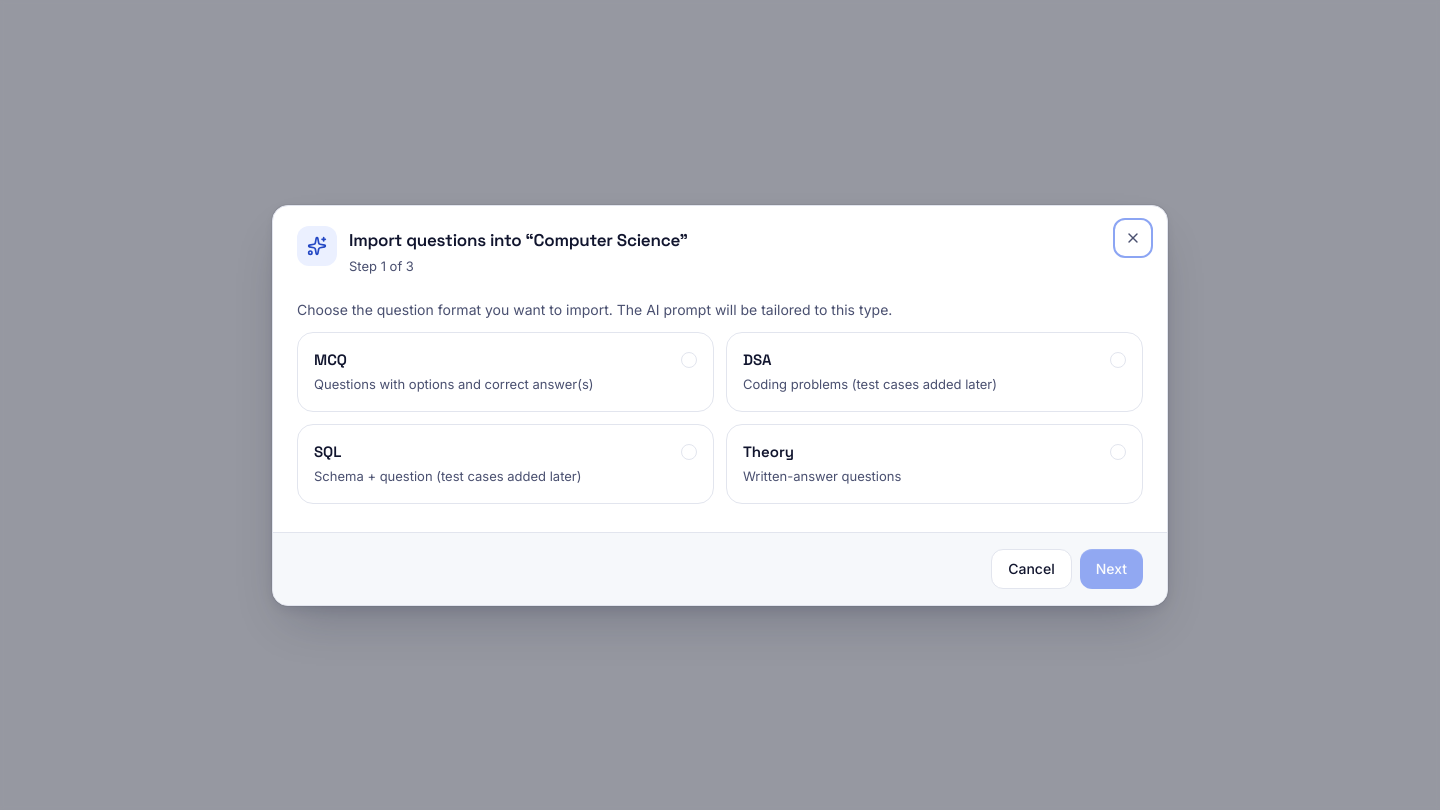
Test: QuestionImportDialog › 6. Payload over the limit disables Preview and shows size warning
This screenshot has width=1440, height=810.
Click the text "MCQ" at x=330, y=360, box [314,348,347,371]
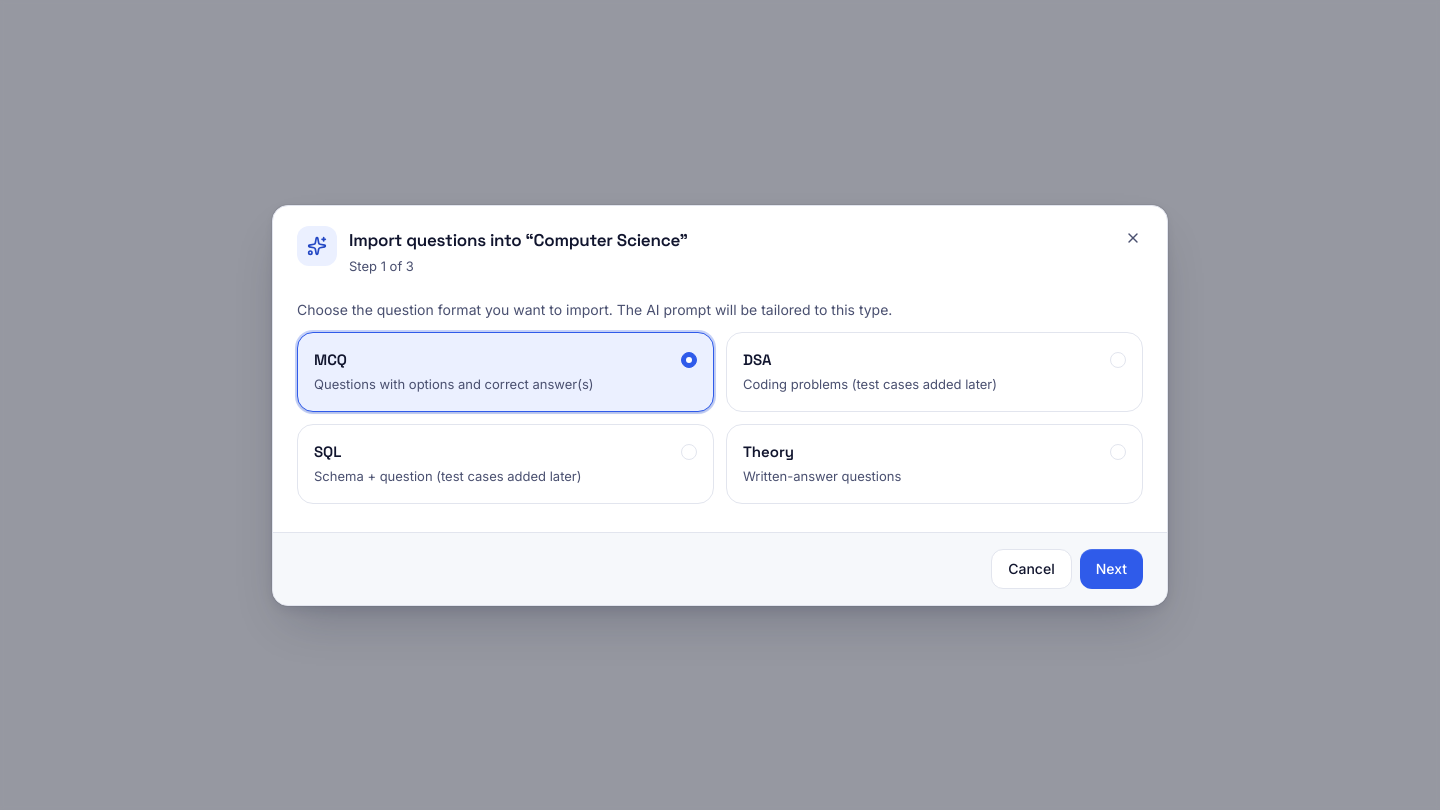
Click the button "Next" at x=1111, y=568, box [1080,548,1143,588]
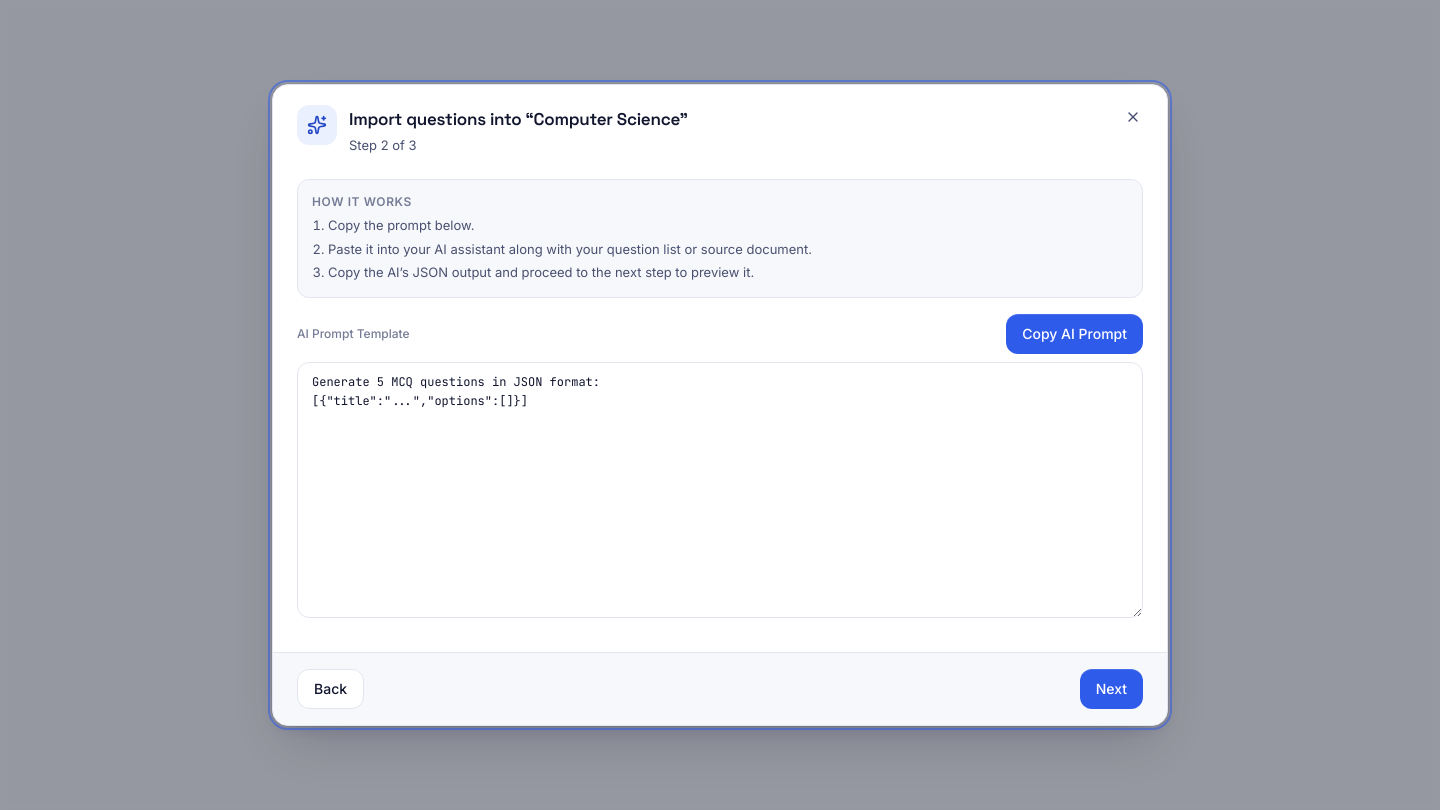
Click the button "Next" at x=1111, y=689, box [1080,669,1143,709]
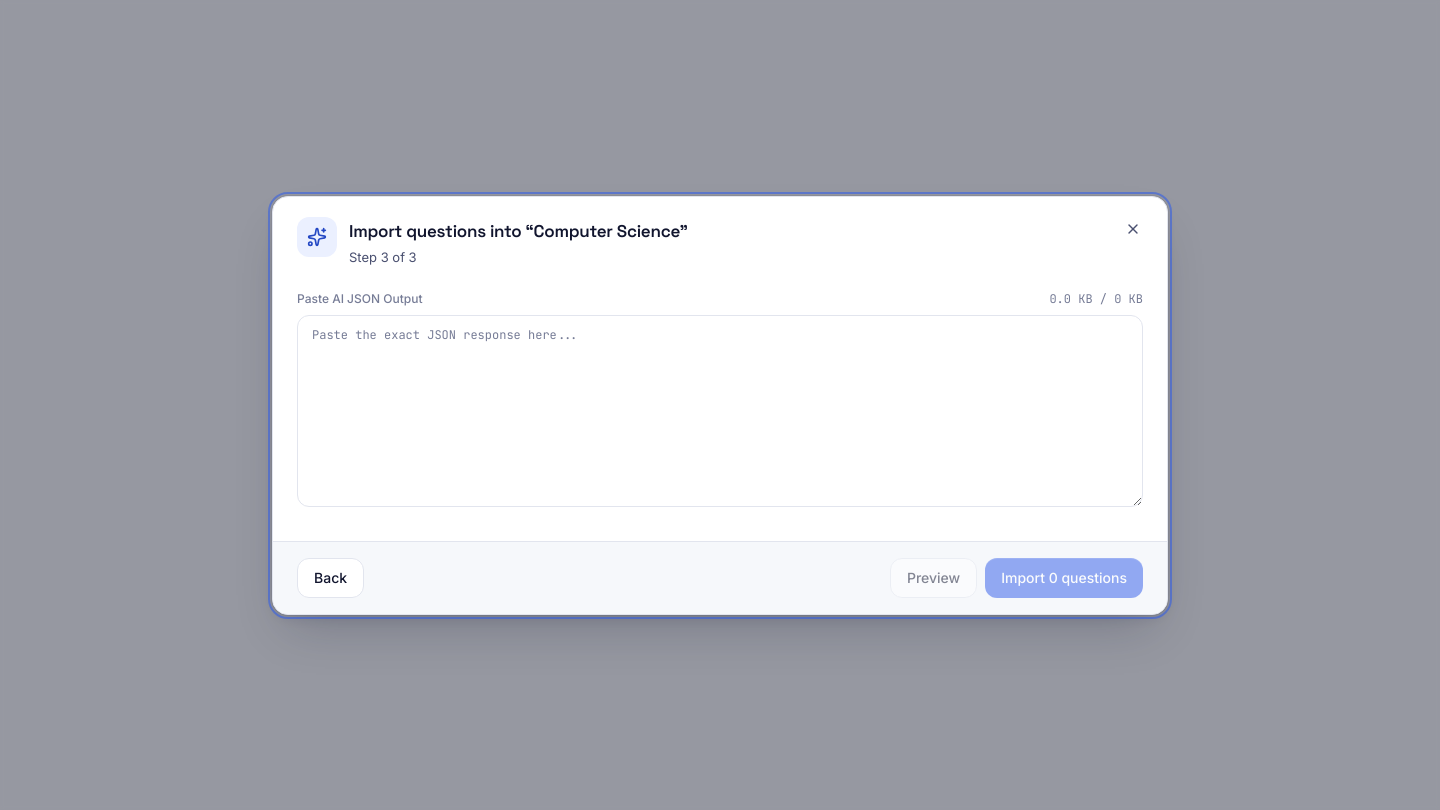
Type "This text is longer than twenty bytes limit" into the text box with placeholder "Paste the exact JSON response here..." at x=720, y=410, box [297,314,1143,506]
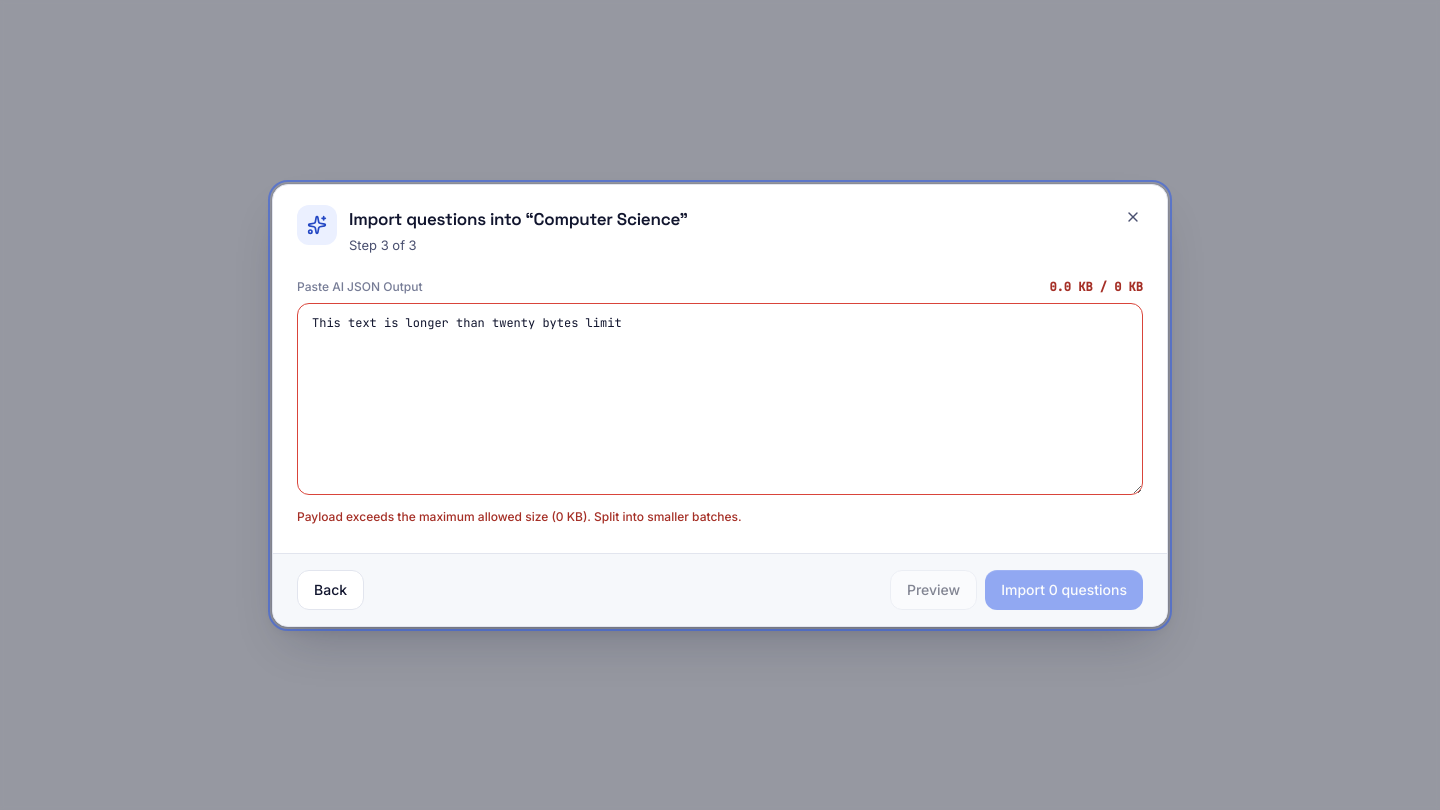
Check: the button "Preview" is disabled, box [890,570,977,610]
Check: the text "Payload exceeds the maximum allowed size" is shown, box [297,508,556,524]
